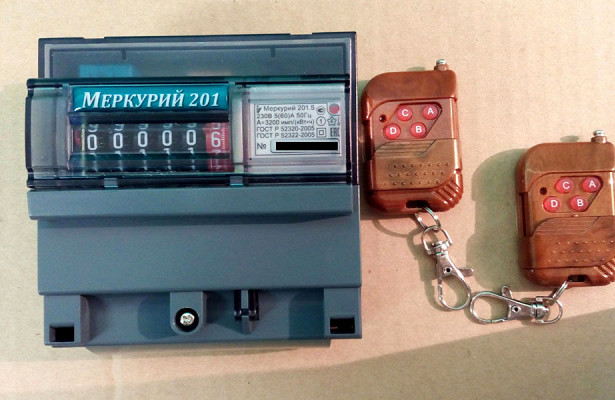counter: (27, 26, 364, 339)
counter_screen: (67, 111, 233, 157)
